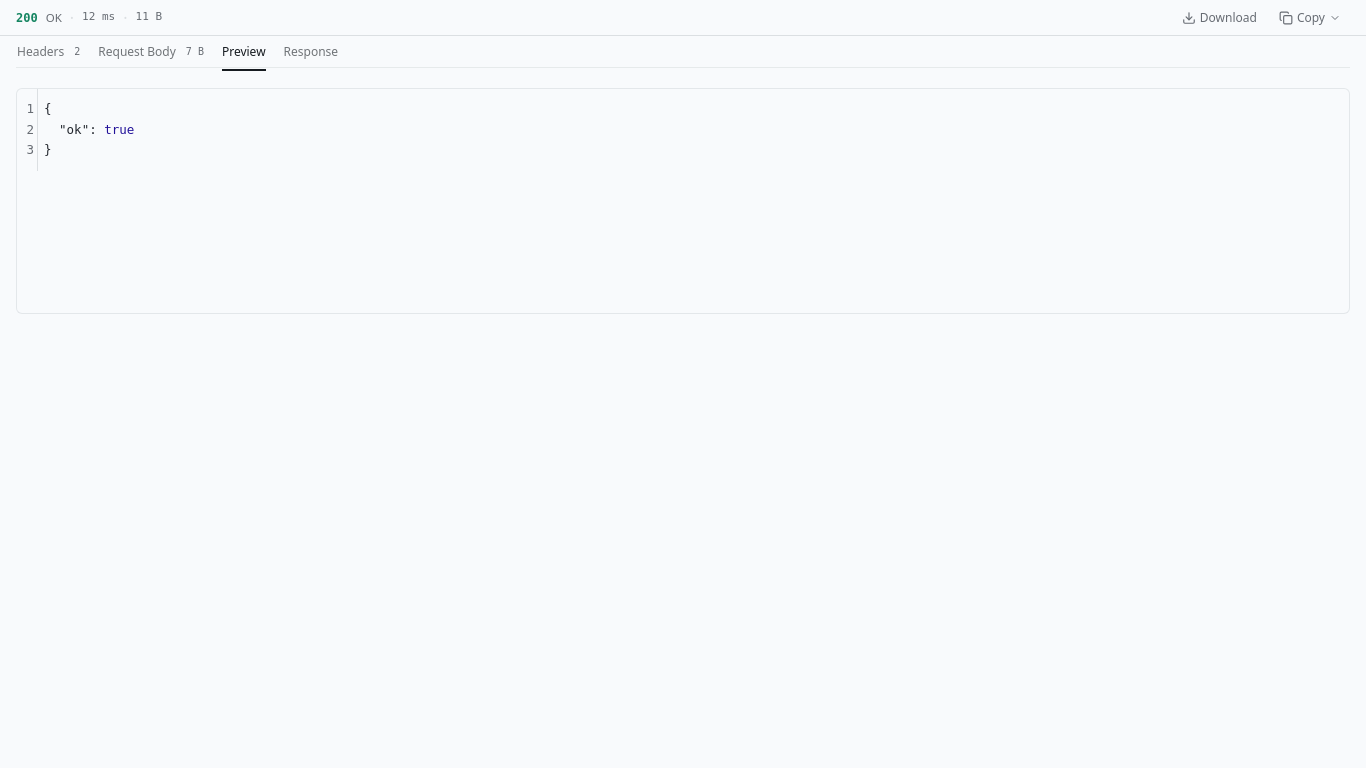
Test: ResponsePanel — tabs › marks a reused connection instead of implying zero-cost TLS
Click the tab "Headers 2" at (49, 52), box left=16, top=36, right=81, bottom=66
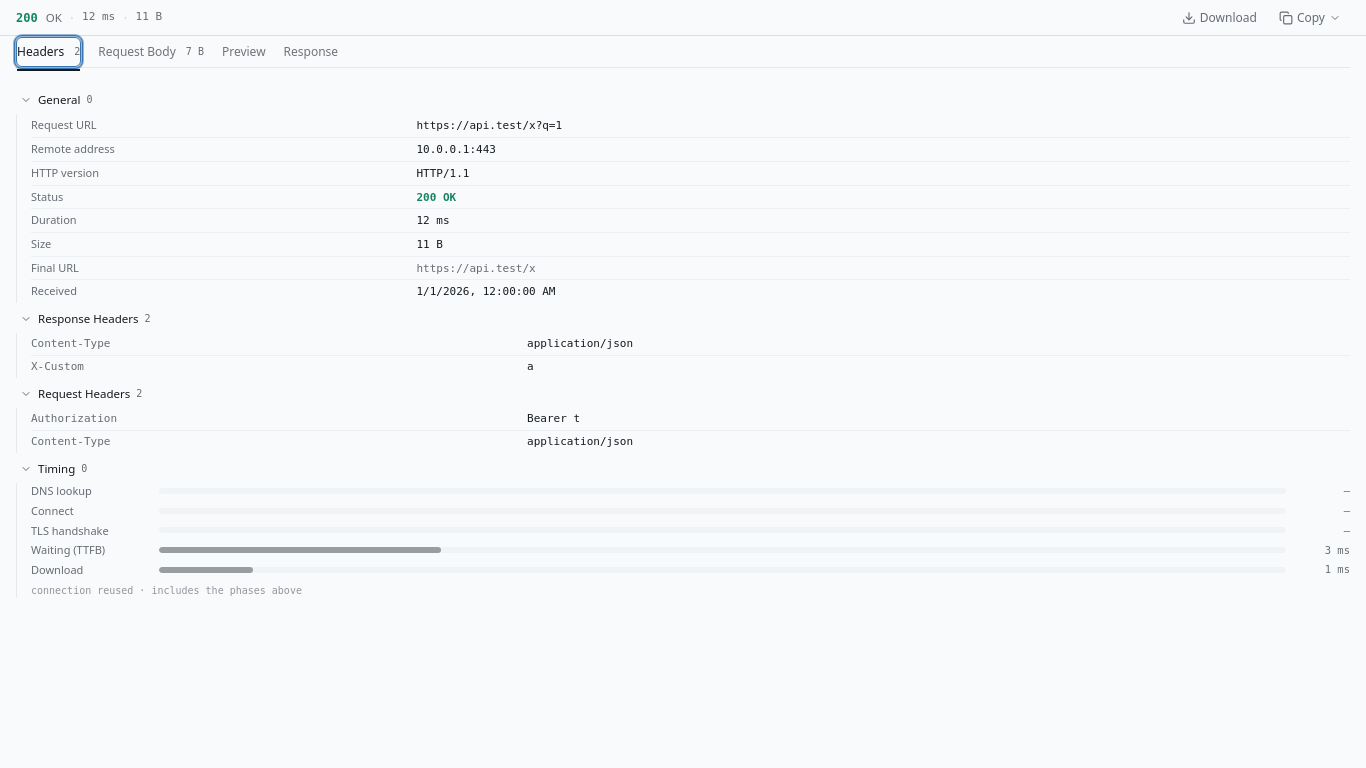
Result: the text "connection reused · includes the phases above" is shown at left=31, top=585, right=302, bottom=596
